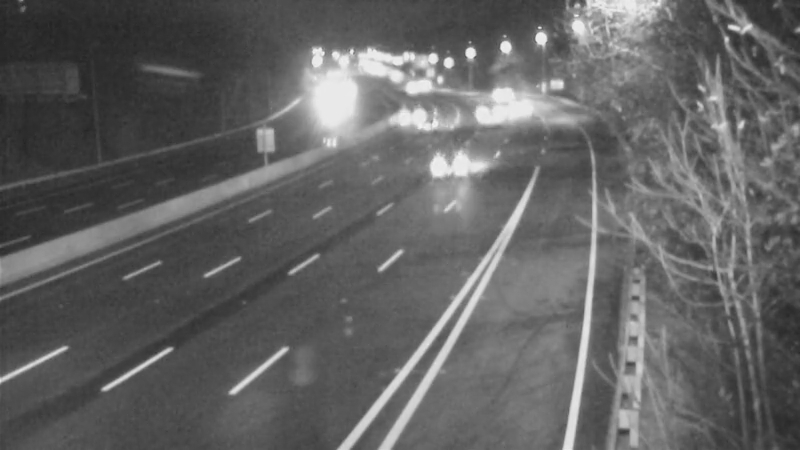vehicle: (409, 119, 489, 199), (472, 65, 522, 115), (489, 75, 539, 125), (379, 84, 429, 134), (453, 84, 503, 134), (402, 95, 452, 145)
